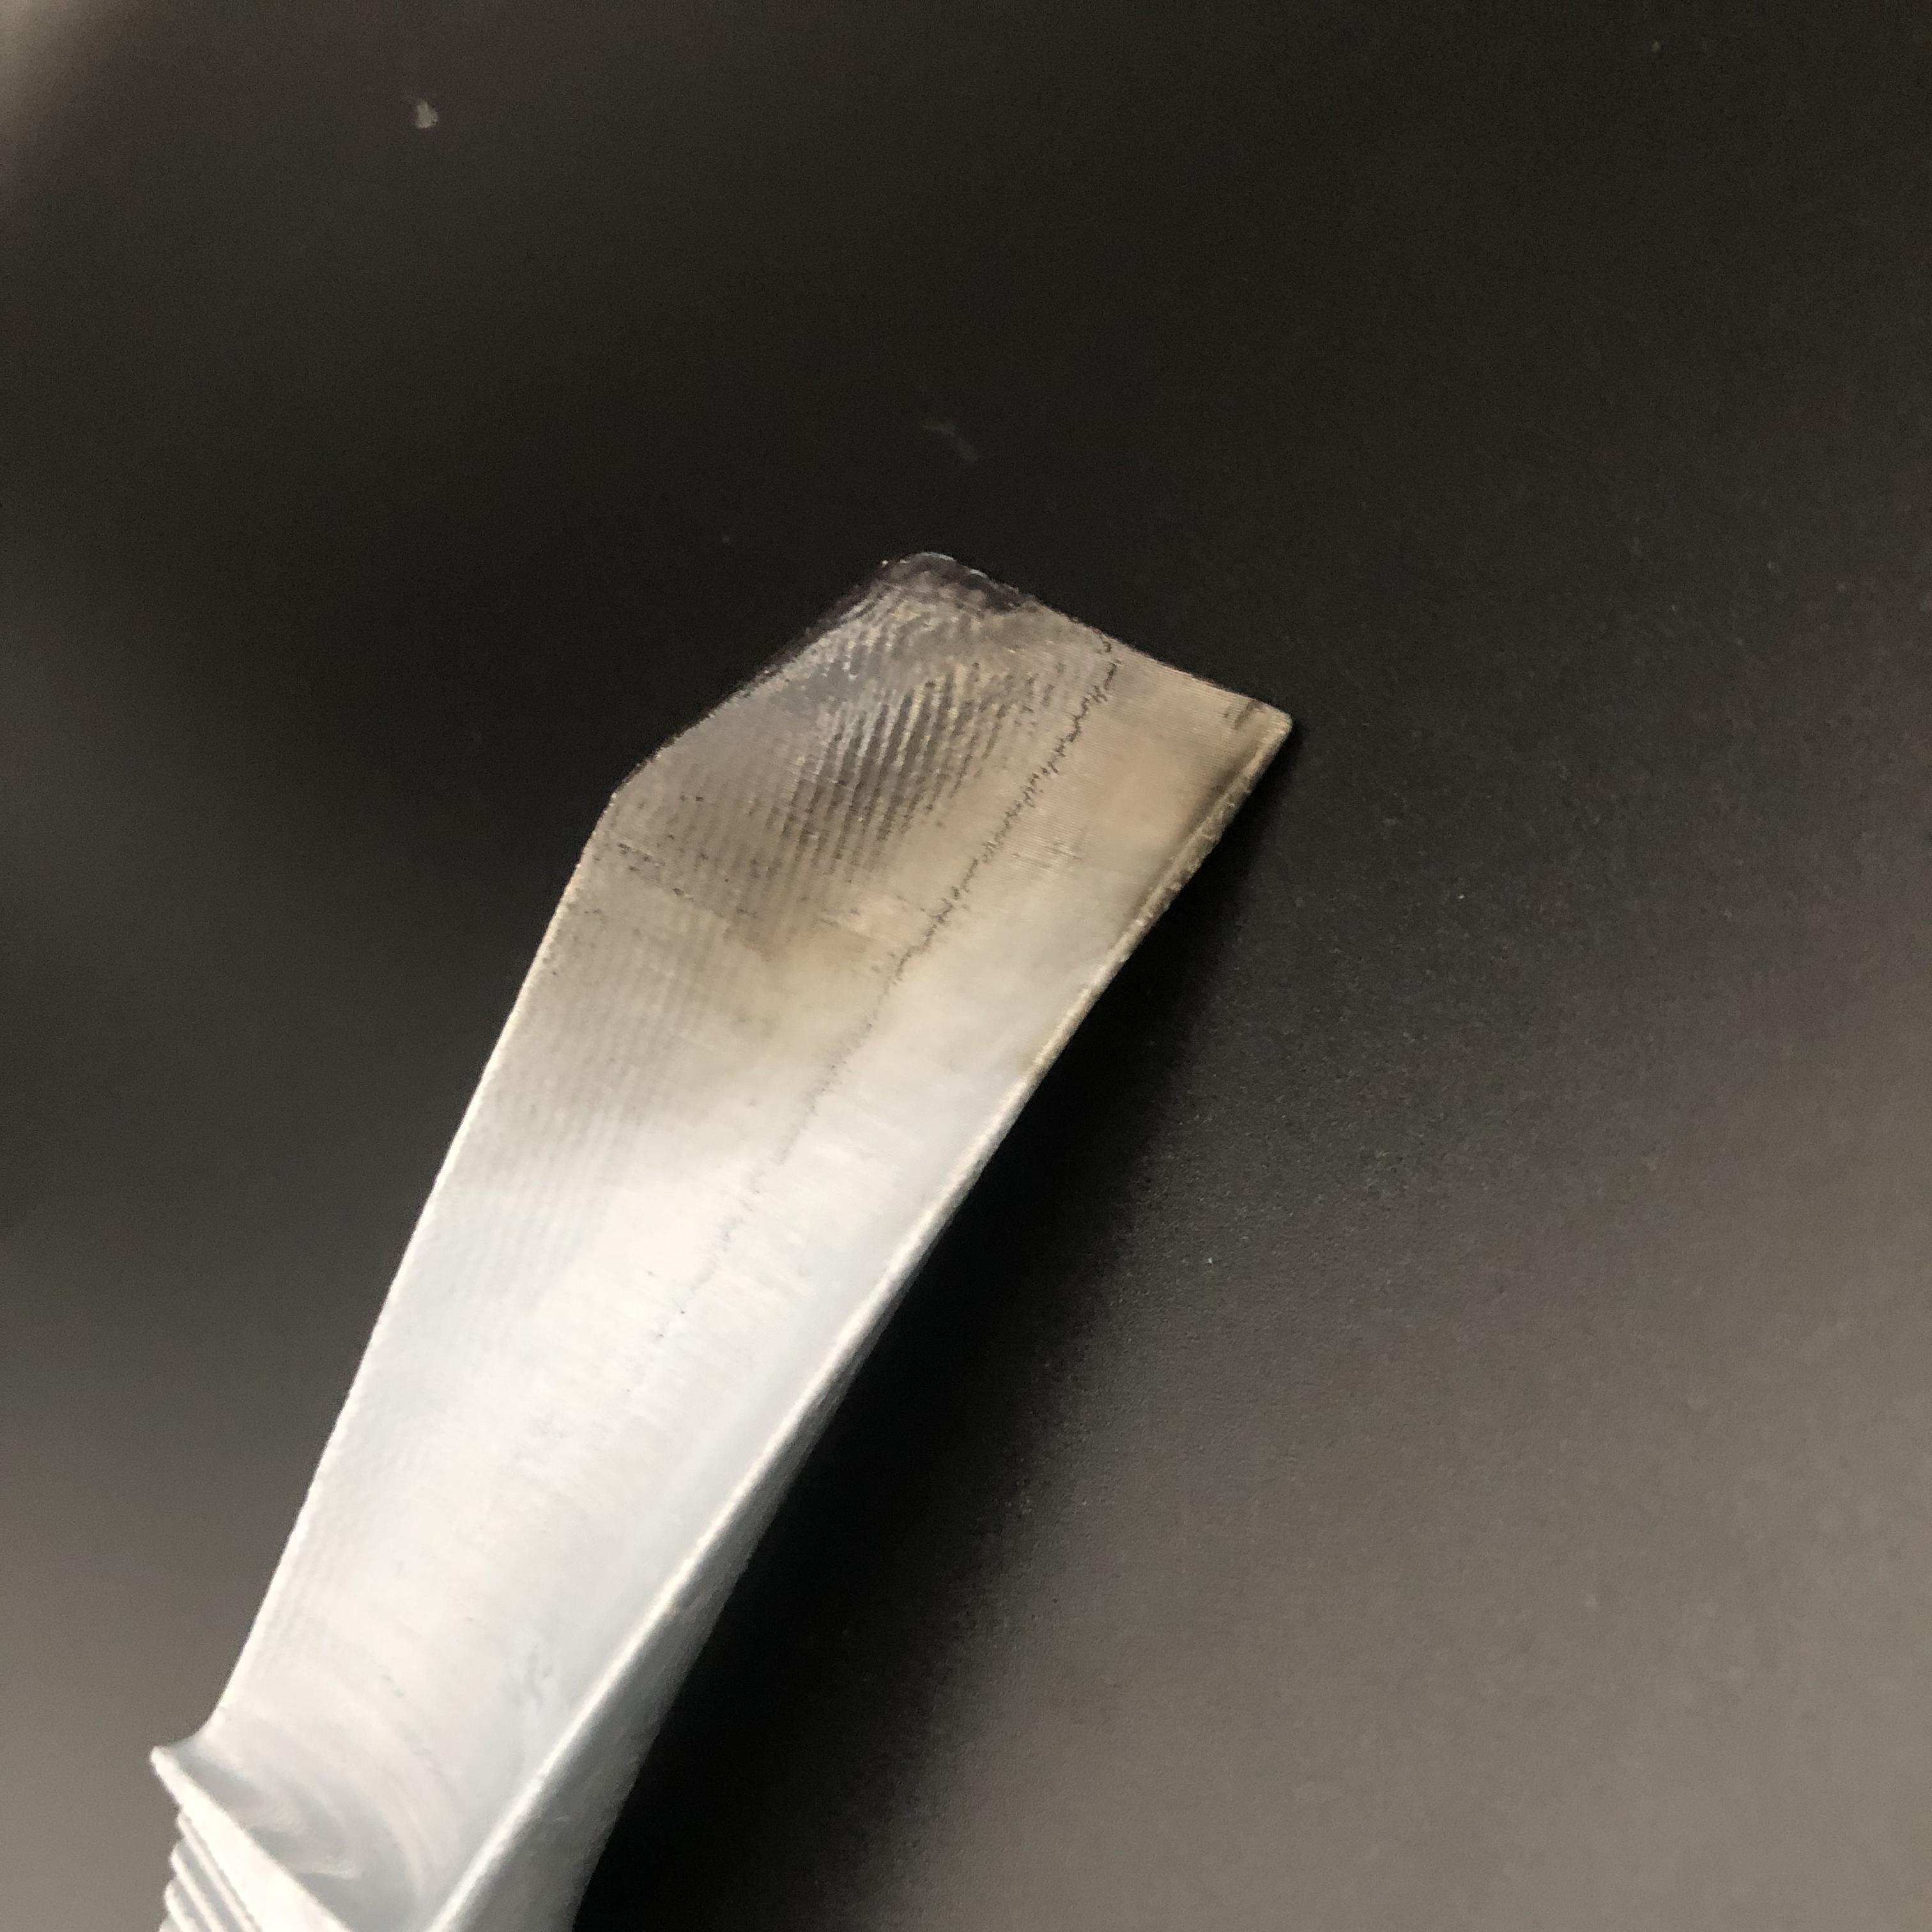ablation: (554, 667, 1247, 1019)
